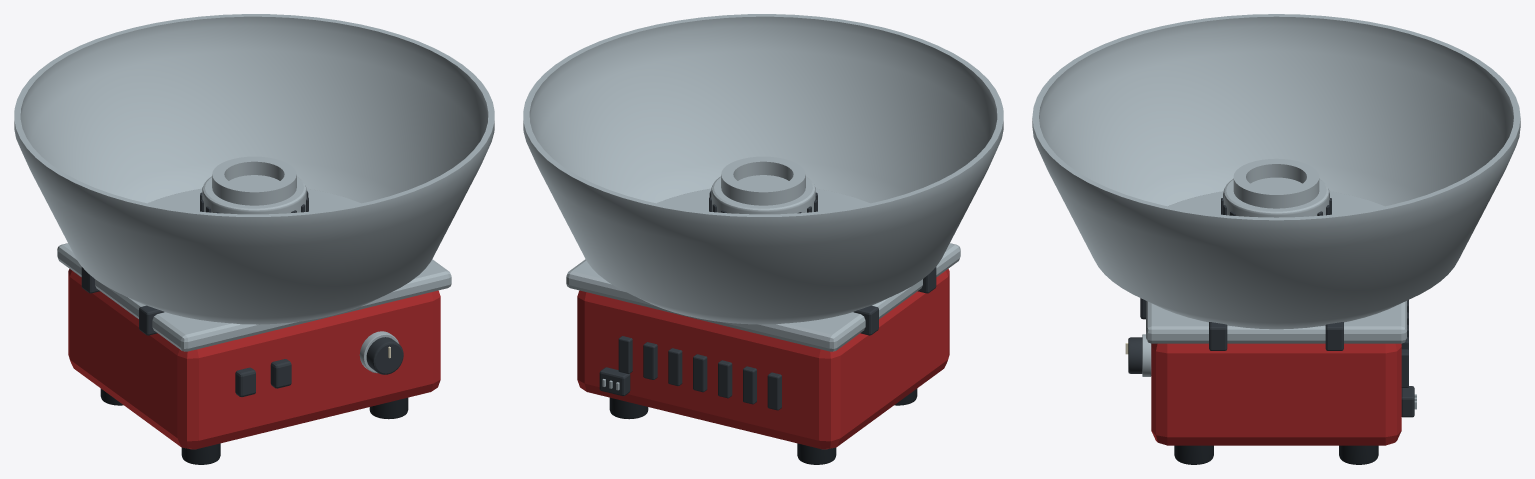
Rendered from city-cotton-candy-machine.glb.
The picture shows the model from 3 angles, left to right: view 1: azimuth 30°, elevation 25°; view 2: azimuth 150°, elevation 25°; view 3: azimuth 270°, elevation 25°; orthographic projection.
Parts seen in each view (by area): view 1: Assembly | Brushed exposed steel, Assembly | Deep red enamel cabinet, Assembly | Dark mechanism trim, Assembly | Rubber feet and hoses; view 2: Assembly | Brushed exposed steel, Assembly | Deep red enamel cabinet, Assembly | Dark mechanism trim, Assembly | Rubber feet and hoses; view 3: Assembly | Brushed exposed steel, Assembly | Deep red enamel cabinet, Assembly | Dark mechanism trim, Assembly | Rubber feet and hoses.
Part boxes in pixels (x1,y1,x2,y2): Assembly | Brushed exposed steel: (14, 14, 494, 373); Assembly | Deep red enamel cabinet: (68, 269, 440, 449); Assembly | Dark mechanism trim: (81, 191, 403, 397); Assembly | Rubber feet and hoses: (100, 388, 408, 464); Assembly | Brushed exposed steel: (523, 14, 1003, 390); Assembly | Deep red enamel cabinet: (577, 269, 949, 449); Assembly | Dark mechanism trim: (599, 191, 936, 410); Assembly | Rubber feet and hoses: (609, 388, 917, 464); Assembly | Brushed exposed steel: (1032, 14, 1520, 409); Assembly | Deep red enamel cabinet: (1151, 343, 1401, 445); Assembly | Dark mechanism trim: (1128, 193, 1414, 417); Assembly | Rubber feet and hoses: (1174, 445, 1378, 464).
Bounding box in the file's own units: 0.67 × 0.445 × 0.67.
